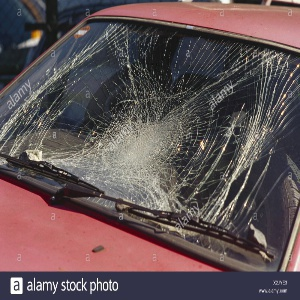front_windshield_glass: (24, 40, 286, 187)
